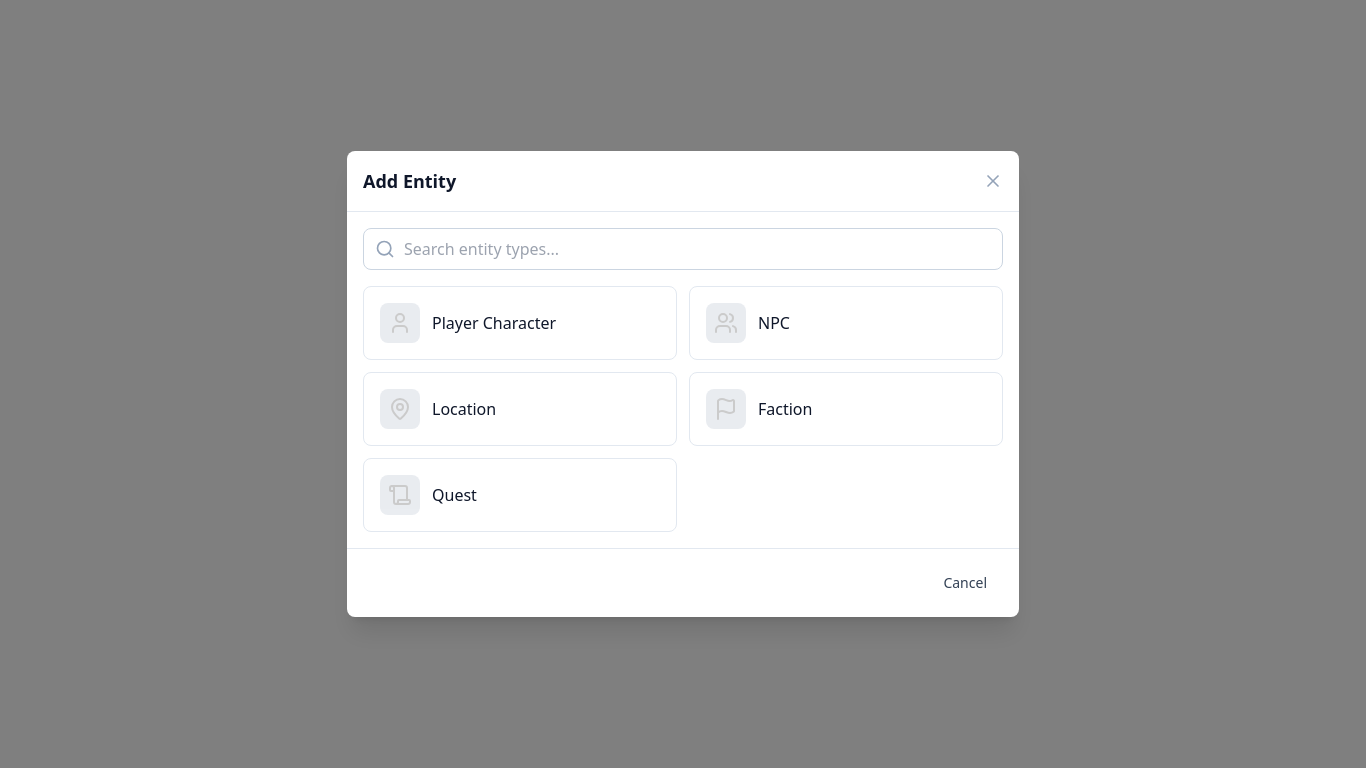
Test: QuickAddModal Component - Search/Filter Functionality › should filter by partial matches
This screenshot has width=1366, height=768.
In the field: (683, 249) x1=363 y1=228 x2=1003 y2=270, type "fac"
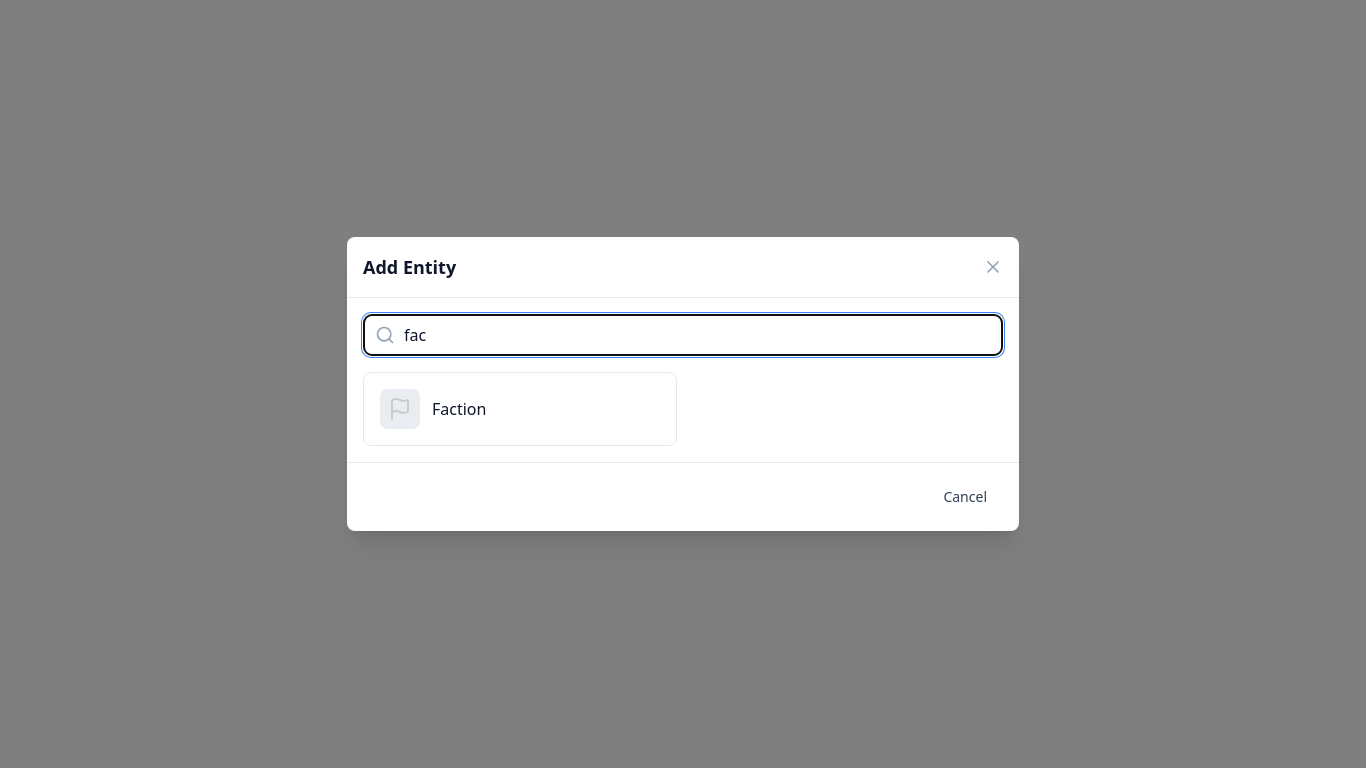
Expected: the text "Faction" is shown, x1=432 y1=398 x2=486 y2=420
Expected: the button "Player Character" is gone
Expected: the button "Location" is gone
